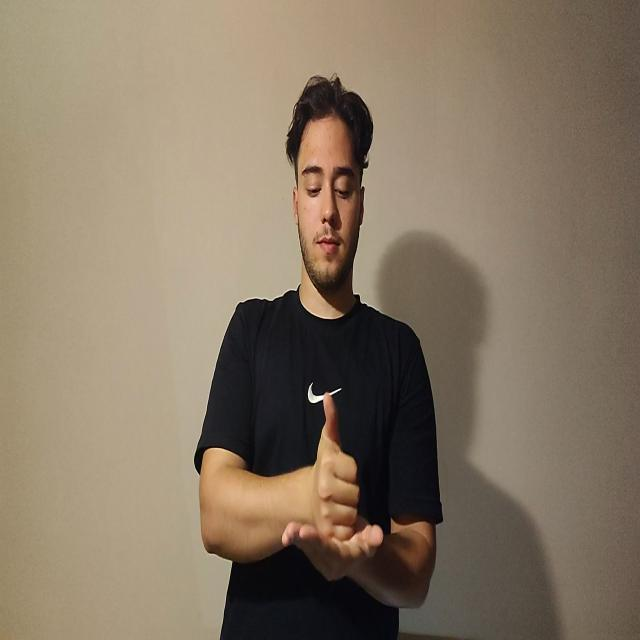help: (284, 393, 382, 583)
